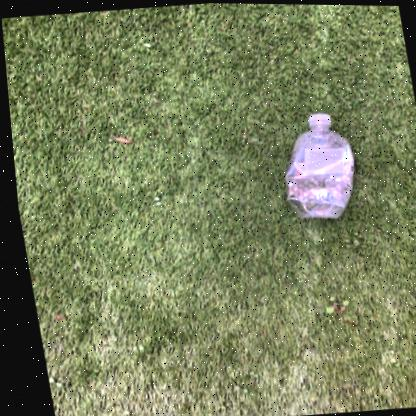Plastic: (281, 111, 351, 217)
